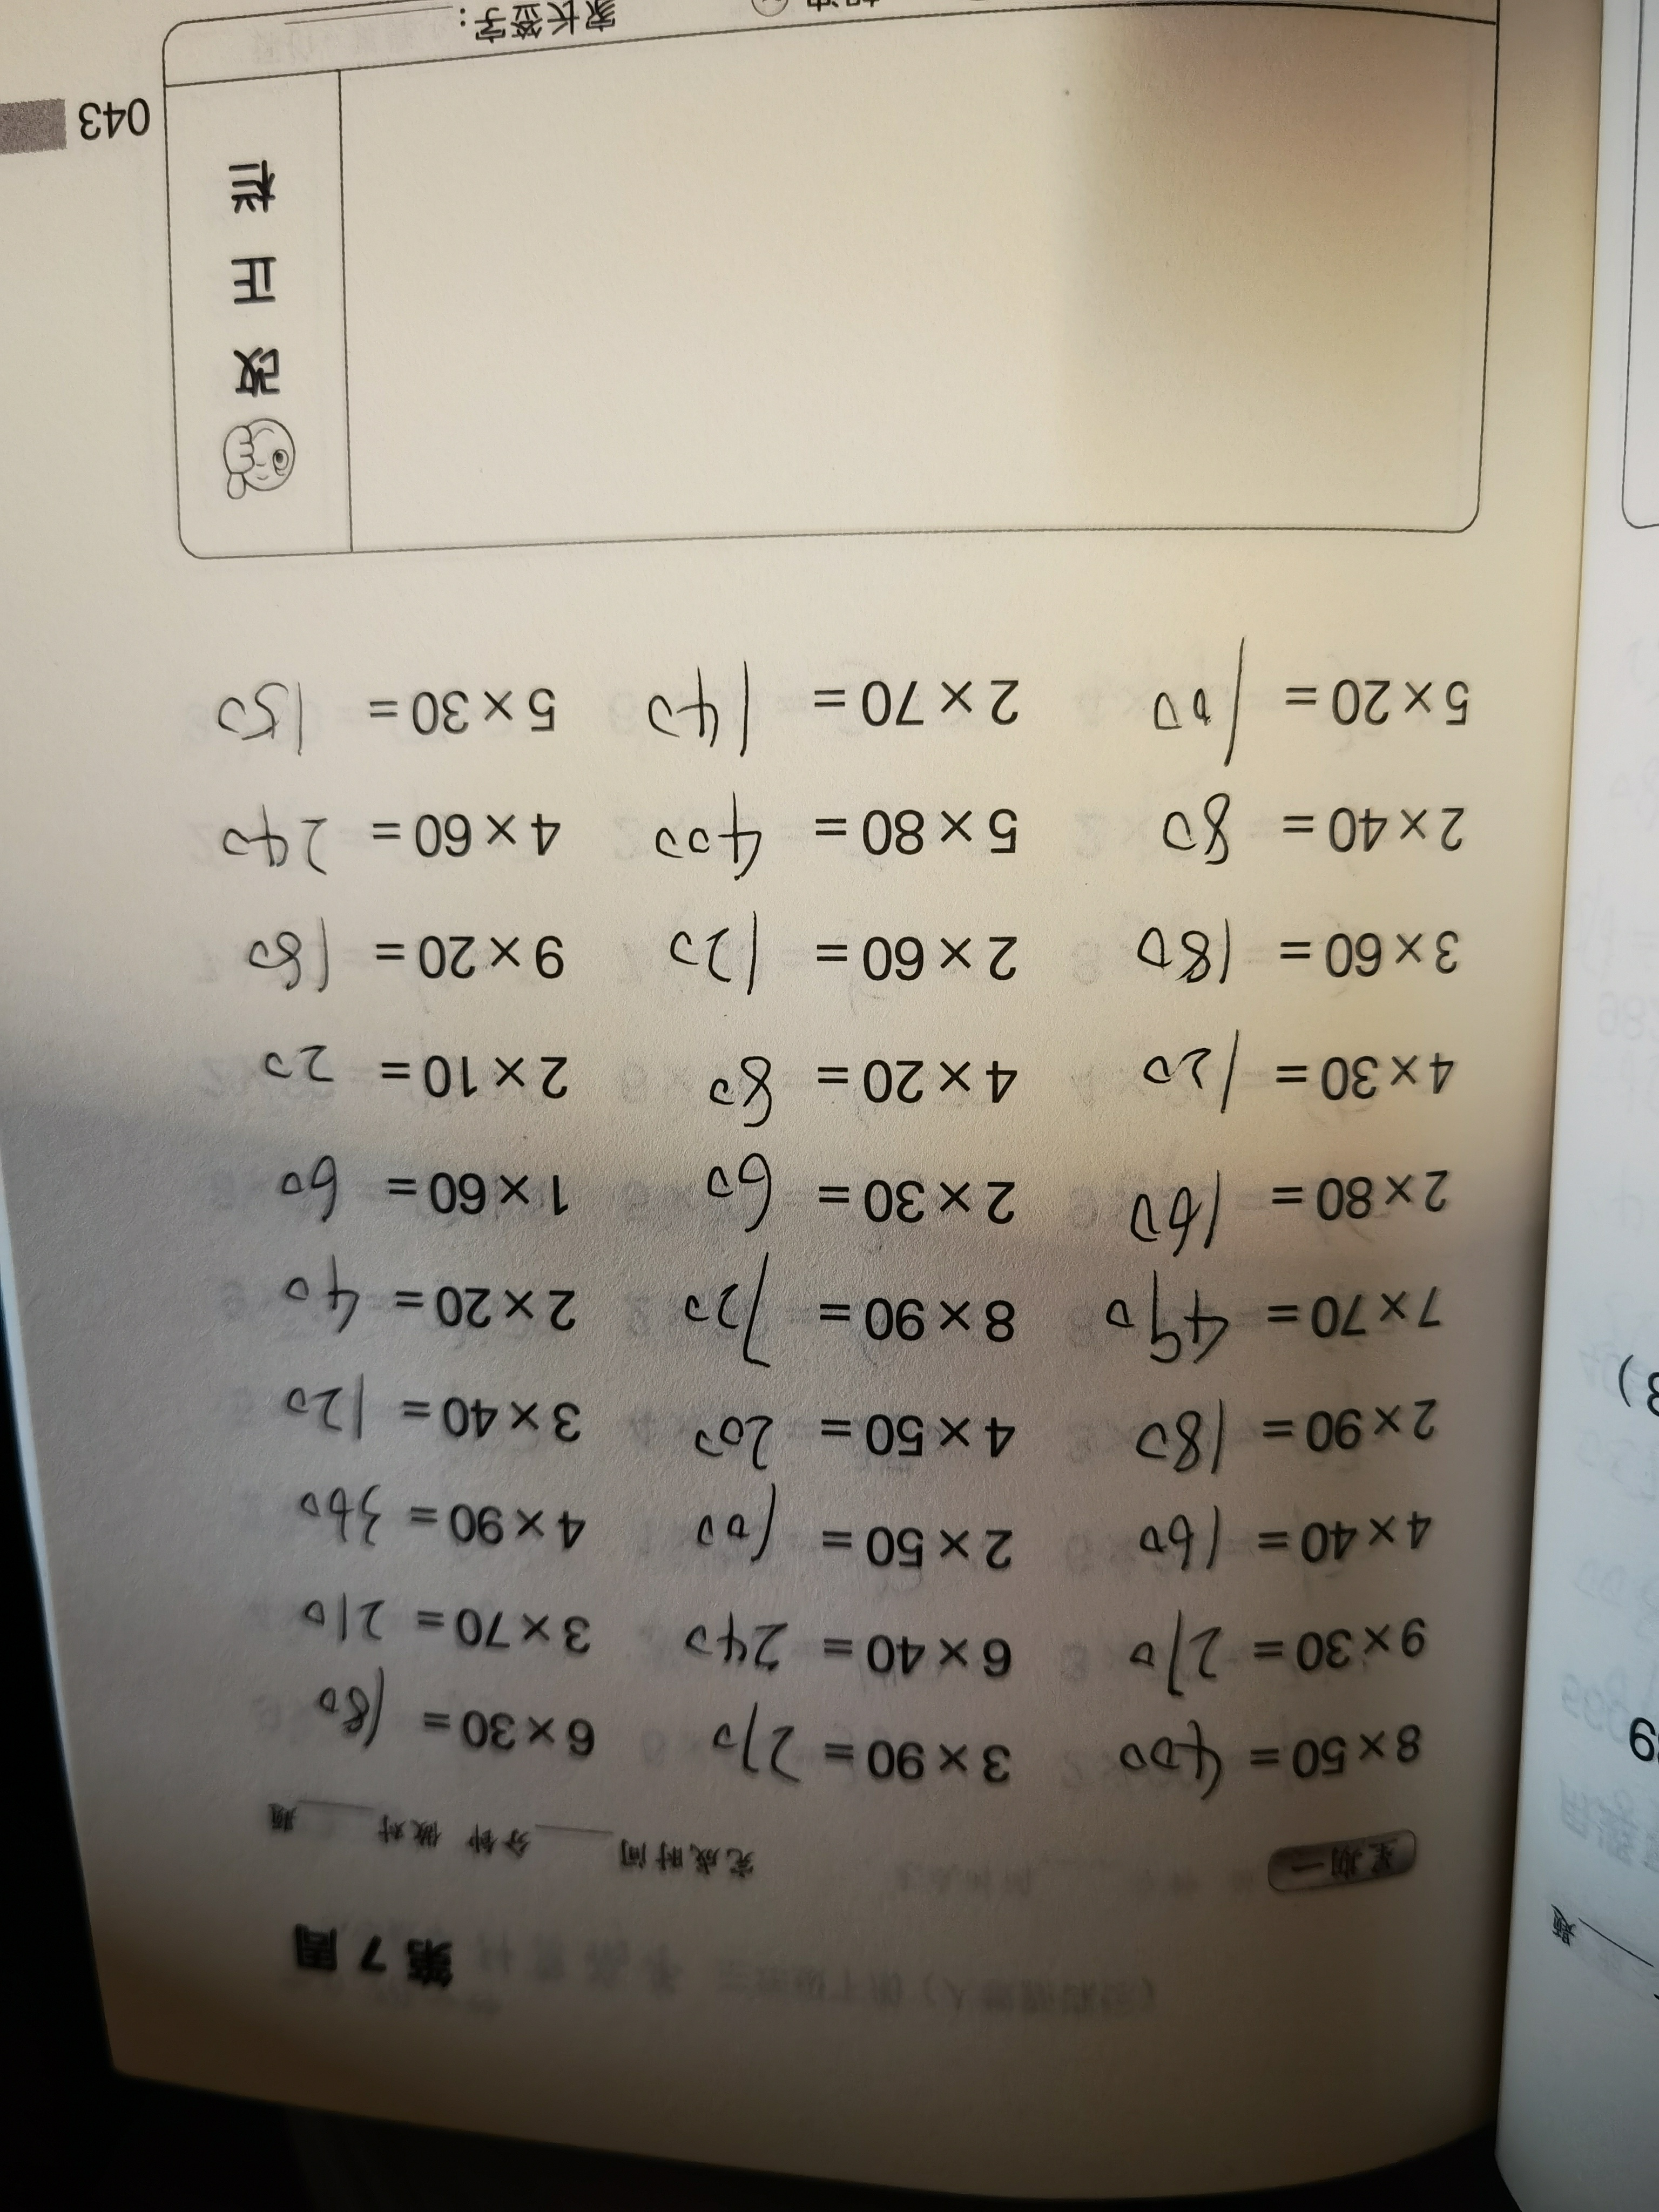equation: (1051, 625, 1511, 763), (650, 1244, 1028, 1388), (1073, 1024, 1493, 1151), (143, 894, 579, 1010), (1086, 759, 1497, 881), (216, 792, 606, 918), (274, 1651, 615, 1792), (1072, 1252, 1471, 1372), (638, 902, 1072, 1008), (650, 1151, 1049, 1266), (139, 662, 565, 768), (669, 1017, 1018, 1146), (626, 667, 1061, 770), (617, 791, 1049, 892), (1114, 904, 1514, 1012), (1101, 1698, 1436, 1825), (688, 1693, 1030, 1813), (1101, 1388, 1469, 1494), (664, 1489, 1025, 1597), (202, 1251, 586, 1352), (1101, 1155, 1455, 1263), (251, 1017, 573, 1136), (249, 1357, 594, 1467), (232, 1153, 599, 1252), (636, 1386, 1026, 1479), (660, 1602, 1018, 1702), (1115, 1496, 1438, 1595), (281, 1581, 605, 1674), (1115, 1608, 1459, 1693), (267, 1479, 605, 1562)
